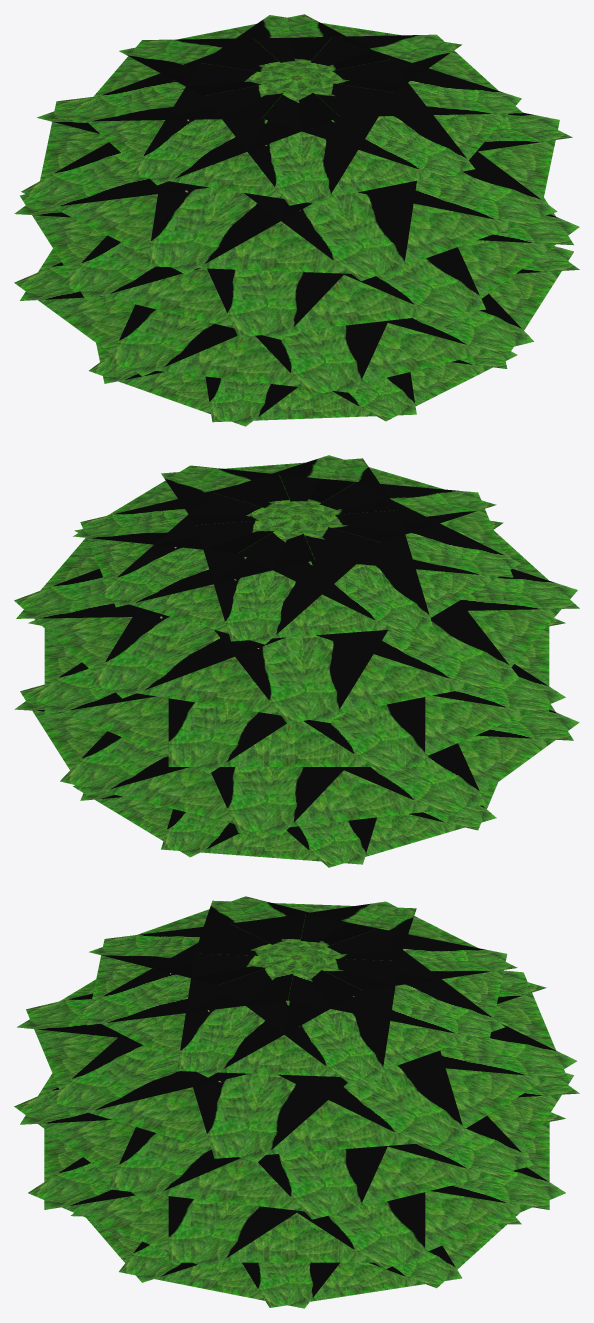
Rendered from bush1.fbx.
The picture shows the model from 3 angles, top to bottom: view 1: azimuth 30°, elevation 25°; view 2: azimuth 150°, elevation 25°; view 3: azimuth 270°, elevation 25°; orthographic projection.
Parts seen in each view (by area): view 1: SPunk_Blad, SPunk_Blad3, SPunk_Blad5, SPunk_Blad4, SPunk_Blad6; view 2: SPunk_Blad, SPunk_Blad3, SPunk_Blad4, SPunk_Blad5, SPunk_Blad6; view 3: SPunk_Blad, SPunk_Blad3, SPunk_Blad4, SPunk_Blad5, SPunk_Blad6.
Boxes of the visible parts, x1=… form: SPunk_Blad: x1=71, y1=14, x2=522, y2=205; SPunk_Blad3: x1=21, y1=97, x2=572, y2=281; SPunk_Blad5: x1=14, y1=246, x2=579, y2=395; SPunk_Blad4: x1=14, y1=194, x2=579, y2=339; SPunk_Blad6: x1=89, y1=343, x2=517, y2=426; SPunk_Blad: x1=73, y1=455, x2=520, y2=644; SPunk_Blad3: x1=14, y1=520, x2=579, y2=723; SPunk_Blad4: x1=28, y1=618, x2=565, y2=773; SPunk_Blad5: x1=14, y1=684, x2=579, y2=835; SPunk_Blad6: x1=73, y1=782, x2=497, y2=867; SPunk_Blad: x1=76, y1=896, x2=517, y2=1082; SPunk_Blad3: x1=17, y1=970, x2=576, y2=1162; SPunk_Blad4: x1=14, y1=1073, x2=579, y2=1219; SPunk_Blad5: x1=28, y1=1112, x2=565, y2=1269; SPunk_Blad6: x1=71, y1=1213, x2=521, y2=1308.
Size of the model in its own units: 138 by 68.68 by 138.
